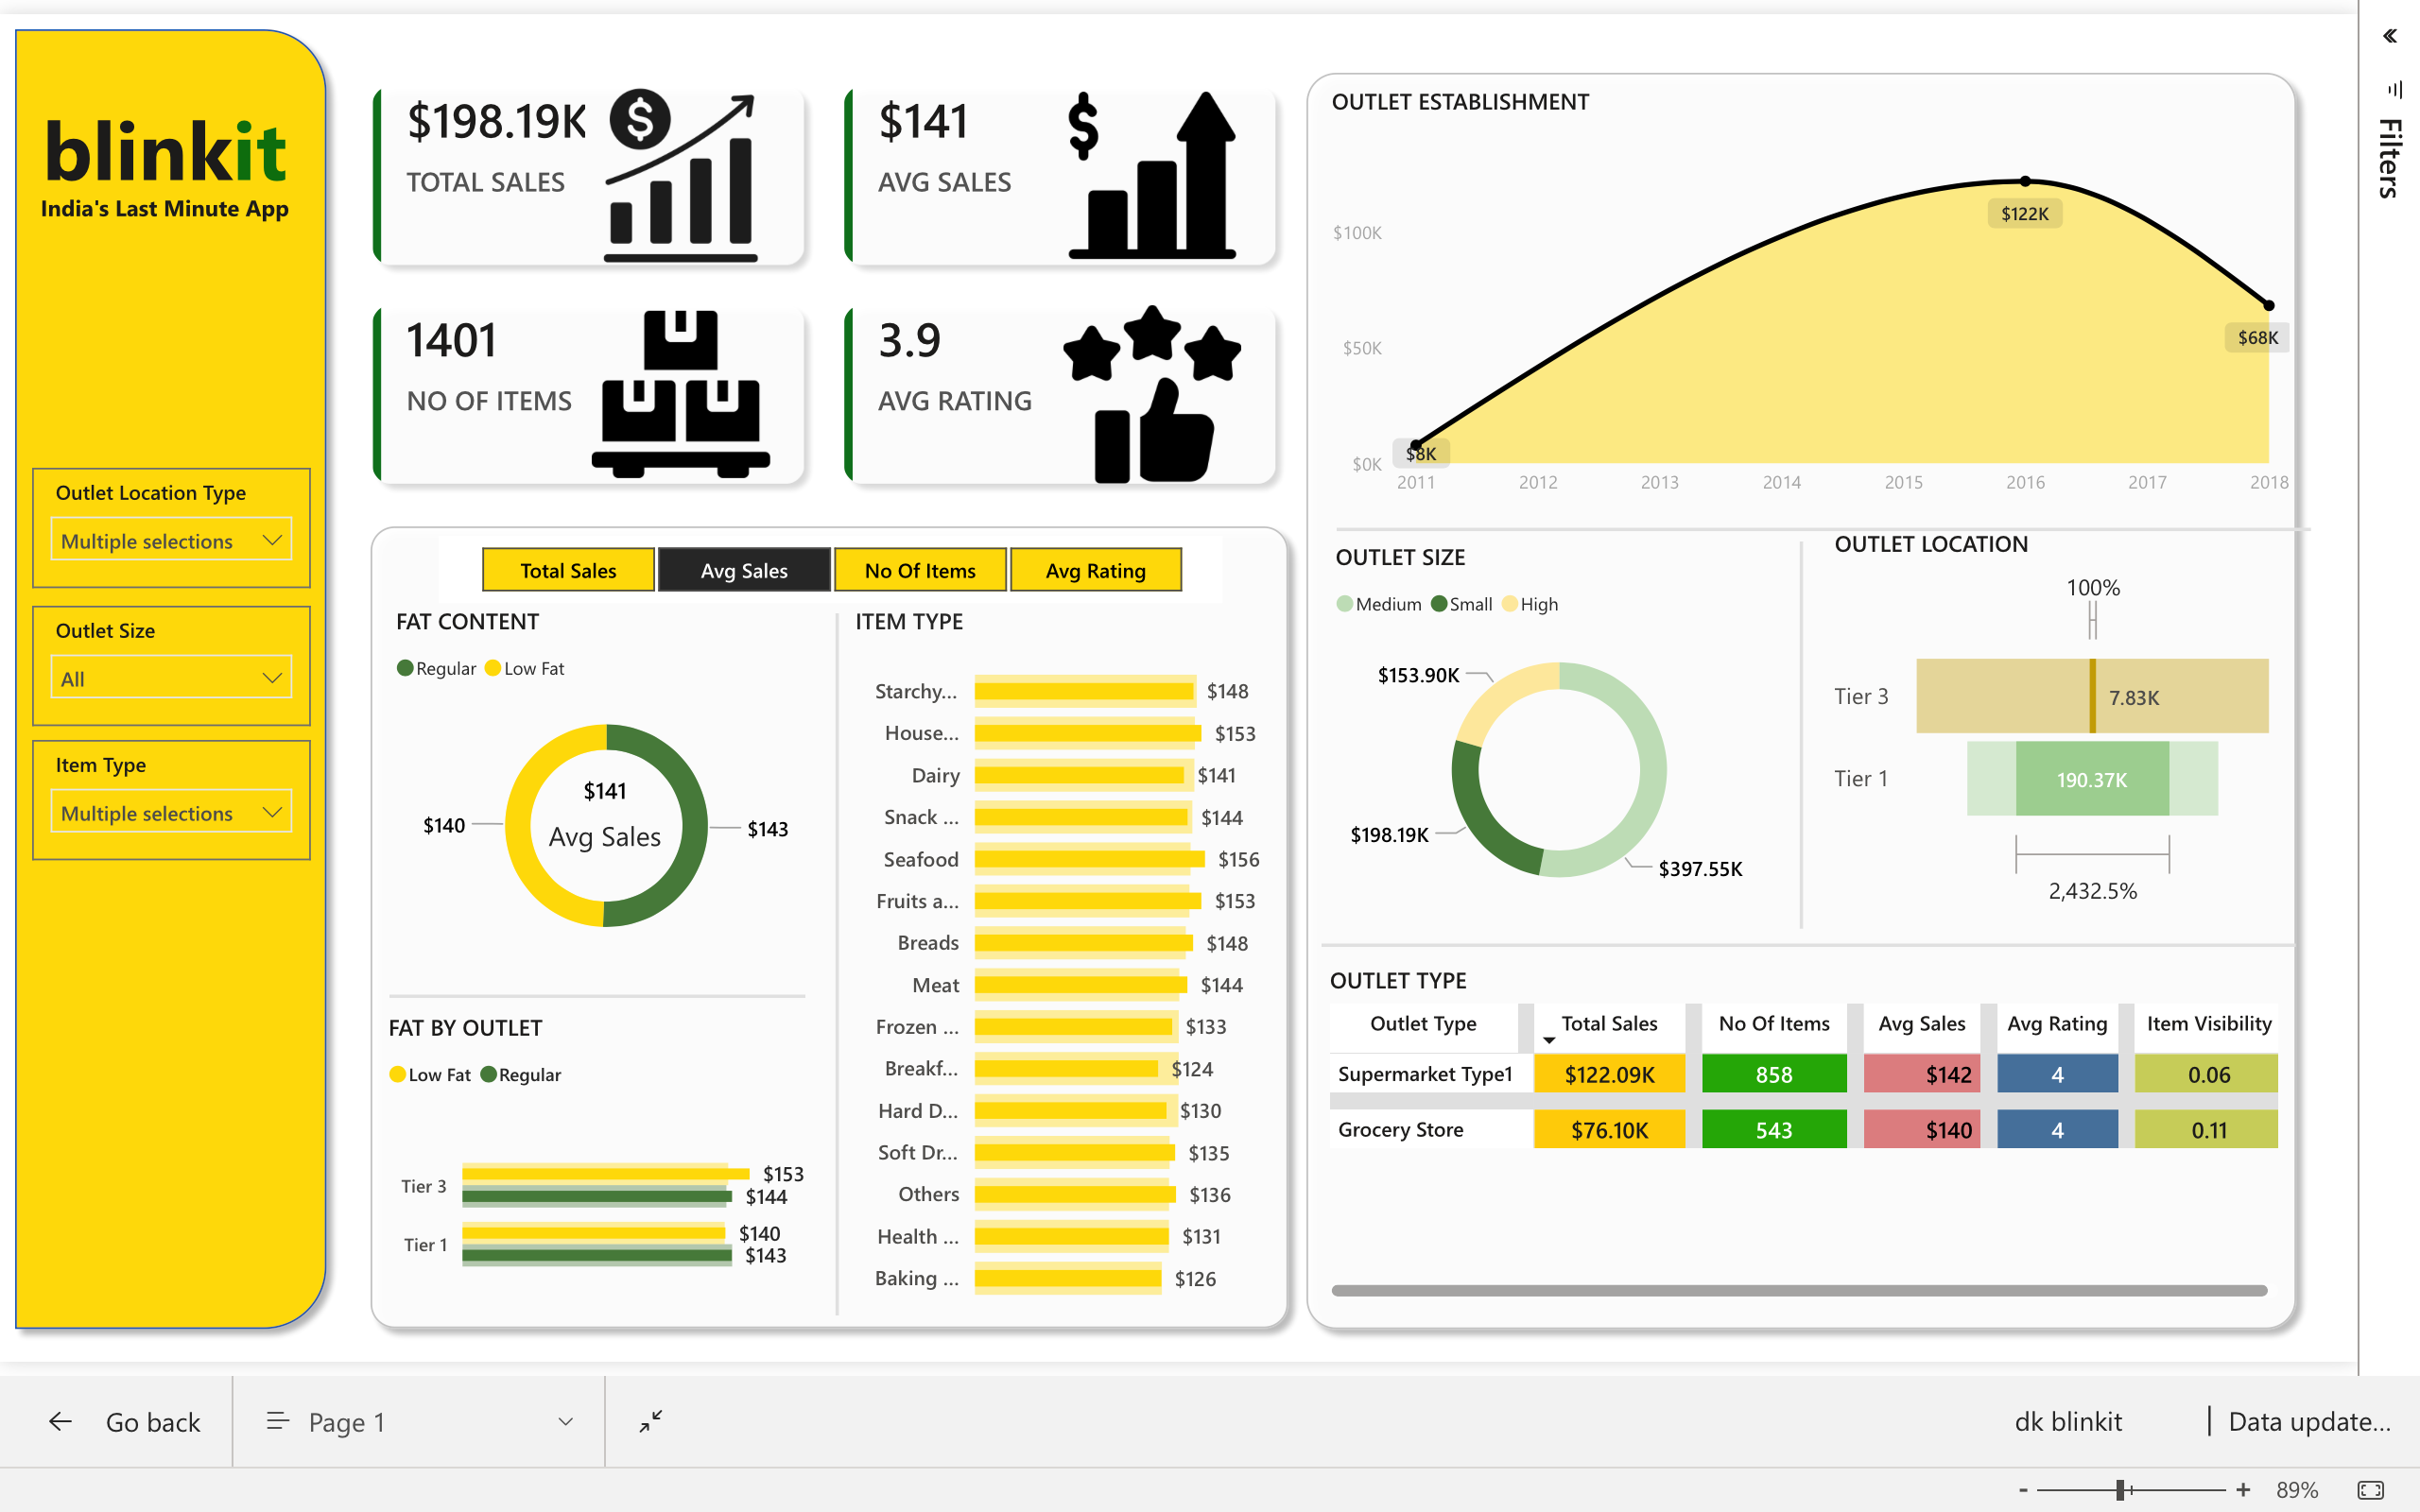

Layout of this report page (visuals, bound fields, positions):
{"tool":"powerbi","page":{"name":"Page 1","canvas":[1400,800],"ordinal":0},"visuals":[{"type":"shape","box":[0,0,202.9,790],"z":0},{"type":"textbox","box":[0,41.4,195.7,75.7],"z":1000},{"type":"textbox","box":[18.6,101.4,174.3,32.9],"z":2000},{"type":"cardVisual","fields":{"Data":["BlinkIT Grocery Data.Total Sales","BlinkIT Grocery Data.Avg Sales","BlinkIT Grocery Data.No Of Items","BlinkIT Grocery Data.Avg Rating"]},"box":[204.3,25.7,570,270],"z":3000},{"type":"shape","box":[211.4,295.7,562.9,494.3],"z":4000},{"type":"donutChart","title":"FAT CONTENT","fields":{"Y":["BlinkIT Grocery Data.No Of Items"],"Category":["BlinkIT Grocery Data.Item Fat Content"]},"box":[230,351.4,260,215.7],"z":5000},{"type":"slicer","fields":{"Values":["Metrics.Metrics"]},"box":[260,310,465.7,40],"z":6000},{"type":"cardVisual","fields":{"Data":["BlinkIT Grocery Data.No Of Items"]},"box":[295.7,431.4,128.6,87.1],"z":7000},{"type":"clusteredBarChart","title":"FAT BY OUTLET","fields":{"Y":["BlinkIT Grocery Data.No Of Items"],"Category":["BlinkIT Grocery Data.Outlet Location Type"],"Series":["BlinkIT Grocery Data.Item Fat Content"]},"box":[225.7,592.9,260,188.6],"z":8000},{"type":"shape","box":[231.4,542.9,247.1,80],"z":9000},{"type":"shape","box":[477.1,355.7,40,417.1],"z":10000},{"type":"barChart","title":"ITEM TYPE","fields":{"Y":["BlinkIT Grocery Data.No Of Items"],"Category":["BlinkIT Grocery Data.Item Type"]},"box":[502.9,351.4,251.4,424.3],"z":11000},{"type":"shape","box":[767.1,25.7,605.7,764.3],"z":12000},{"type":"lineChart","title":"OUTLET ESTABLISHMENT ","fields":{"Category":["BlinkIT Grocery Data.Outlet Establishment Year"],"Y":["BlinkIT Grocery Data.Total Sales"]},"box":[785.7,42.9,578.6,252.9],"z":13000},{"type":"shape","box":[794.3,265.7,578.6,80],"z":14000},{"type":"donutChart","title":"OUTLET SIZE","fields":{"Y":["BlinkIT Grocery Data.Total Sales"],"Category":["BlinkIT Grocery Data.Outlet Size"]},"box":[788.6,312.9,275.7,225.7],"z":15000},{"type":"shape","box":[1050,312.9,40,230],"z":16000},{"type":"funnel","title":"OUTLET LOCATION","fields":{"Y":["Sum(BlinkIT Grocery Data.Sales)"],"Category":["BlinkIT Grocery Data.Outlet Location Type"]},"box":[1084.3,305.7,272.9,230],"z":17000},{"type":"shape","box":[784.3,512.9,578.6,80],"z":18000},{"type":"pivotTable","title":"OUTLET TYPE","fields":{"Rows":["BlinkIT Grocery Data.Outlet Type"],"Values":["BlinkIT Grocery Data.Total Sales","BlinkIT Grocery Data.No Of Items","BlinkIT Grocery Data.Avg Sales","BlinkIT Grocery Data.Avg Rating","Avg(BlinkIT Grocery Data.Item Visibility)"]},"box":[784.3,564.3,572.9,202.9],"z":19000},{"type":"slicer","fields":{"Values":["BlinkIT Grocery Data.Outlet Size"]},"box":[18.6,351.4,165.7,71.4],"z":20000},{"type":"slicer","fields":{"Values":["BlinkIT Grocery Data.Item Type"]},"box":[18.6,431.4,165.7,71.4],"z":21000},{"type":"slicer","fields":{"Values":["BlinkIT Grocery Data.Outlet Location Type"]},"box":[18.6,270,165.7,71.4],"z":22000}]}

Visuals, with their boxes on the page's 1400x800 design canvas (x1, y1, x2, y2). These are canvas units, not pixel positions in the 2420x1512 screenshot, which may show the page scaled, cropped or inside an application window:
shape: 0, 0, 203, 790
textbox: 0, 41, 196, 117
textbox: 19, 101, 193, 134
cardVisual - BlinkIT Grocery Data.Total Sales x BlinkIT Grocery Data.Avg Sales: 204, 26, 774, 296
shape: 211, 296, 774, 790
"FAT CONTENT" donutChart: 230, 351, 490, 567
slicer - Metrics.Metrics: 260, 310, 726, 350
cardVisual - BlinkIT Grocery Data.No Of Items: 296, 431, 424, 518
"FAT BY OUTLET" clusteredBarChart: 226, 593, 486, 782
shape: 231, 543, 478, 623
shape: 477, 356, 517, 773
"ITEM TYPE" barChart: 503, 351, 754, 776
shape: 767, 26, 1373, 790
"OUTLET ESTABLISHMENT " lineChart: 786, 43, 1364, 296
shape: 794, 266, 1373, 346
"OUTLET SIZE" donutChart: 789, 313, 1064, 539
shape: 1050, 313, 1090, 543
"OUTLET LOCATION" funnel: 1084, 306, 1357, 536
shape: 784, 513, 1363, 593
"OUTLET TYPE" pivotTable: 784, 564, 1357, 767
slicer - BlinkIT Grocery Data.Outlet Size: 19, 351, 184, 423
slicer - BlinkIT Grocery Data.Item Type: 19, 431, 184, 503
slicer - BlinkIT Grocery Data.Outlet Location Type: 19, 270, 184, 341
